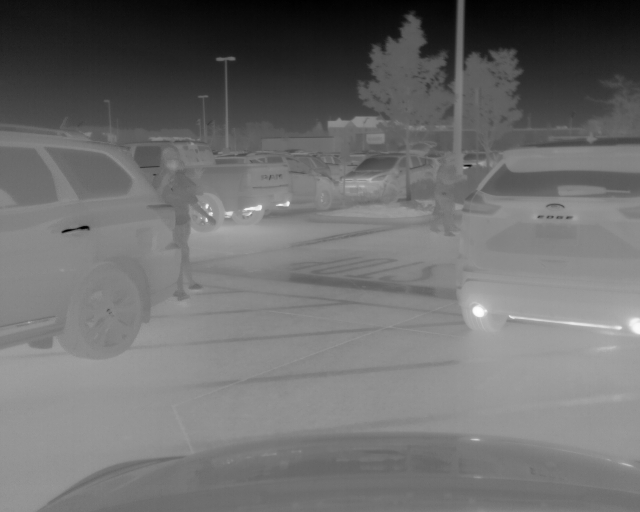car: (2, 122, 184, 360), (455, 134, 640, 342), (124, 142, 293, 230), (213, 150, 338, 227), (340, 151, 442, 202), (462, 150, 498, 170)
people: (153, 148, 202, 301), (434, 152, 455, 236)
